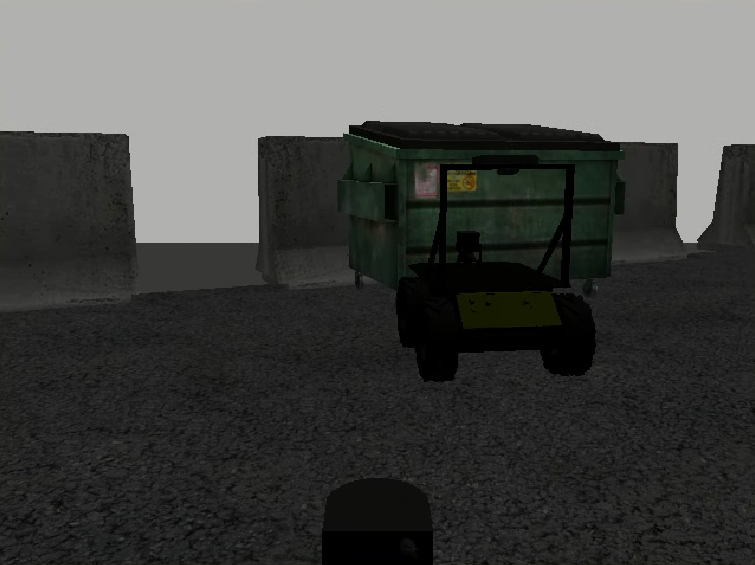husky: (394, 261, 594, 382)
